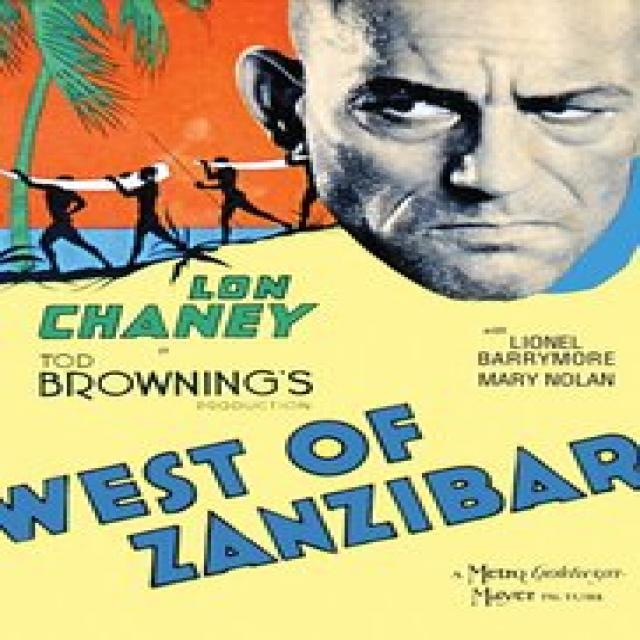movie-judul: (0, 402, 640, 611), (4, 269, 636, 404)
picture: (3, 2, 640, 300)
